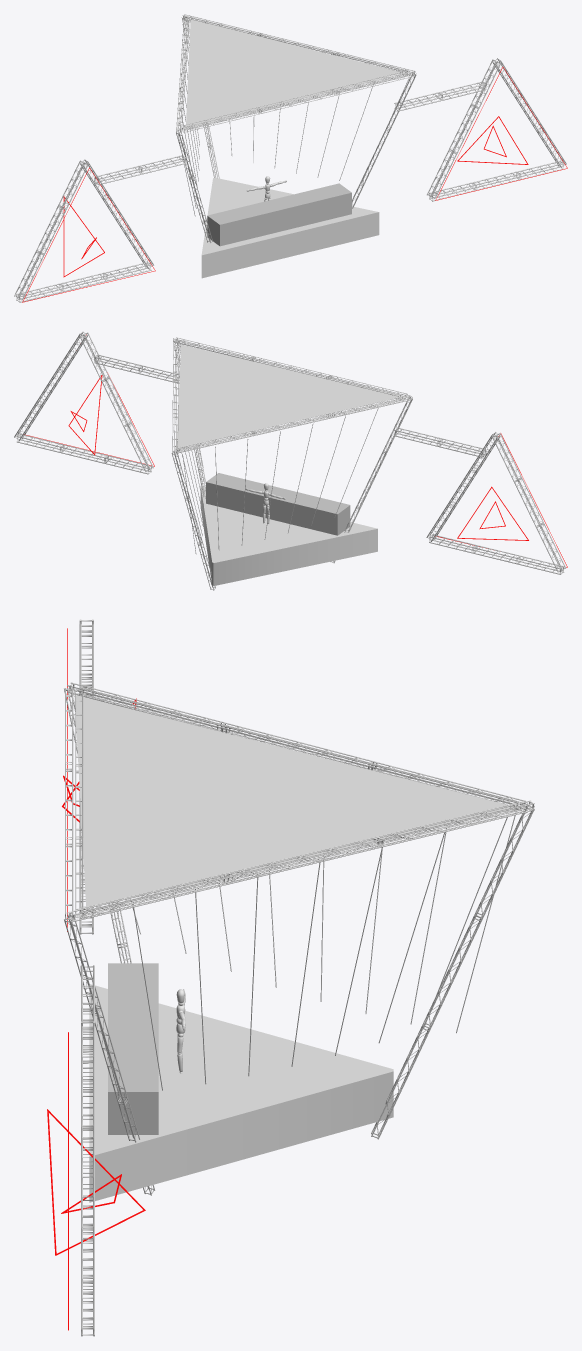
The model's file is STAAAGGe_FinalV10.fbx.
The picture shows the model from 3 angles, top to bottom: view 1: azimuth 30°, elevation 25°; view 2: azimuth 150°, elevation 25°; view 3: azimuth 270°, elevation 25°; orthographic projection. The views are drawn at different scales.
Parts seen in each view (by area): view 1: Polygon_1, StageFloor, DJbooth, truss_10_a_2, Cylinder_0_1, truss_10_a_1_3, truss_10_a_1_4, truss_10_a_2_7, truss_10_a_2_5, truss_10_a_2_9, truss_10_a_4, truss_10_a_3 (+10 smaller); view 2: Polygon_1, StageFloor, DJbooth, Cylinder_0_1, truss_10_a_2_2, truss_10_a_1_3, truss_10_a_1_4, truss_10_a_2_7, truss_10_a_2_9, truss_10_a_2_6, truss_10_a_2, truss_10_a_4 (+7 smaller); view 3: Polygon_1, StageFloor, DJbooth, Cylinder_0_1, truss_10_a_2_3, truss_10_a_1_2, truss_10_a_2_2, truss_10_a_1, truss_10_a_2_6, truss_10_a_2_4, truss_10_a_4, truss_10_a_2_5 (+1 smaller).
Boxes of the visible parts, x1=… form: Polygon_1: x1=186, y1=19, x2=399, y2=127; StageFloor: x1=201, y1=177, x2=379, y2=278; DJbooth: x1=207, y1=183, x2=351, y2=246; truss_10_a_2: x1=182, y1=71, x2=415, y2=132; Cylinder_0_1: x1=177, y1=24, x2=409, y2=216; truss_10_a_1_3: x1=14, y1=160, x2=88, y2=300; truss_10_a_1_4: x1=427, y1=59, x2=500, y2=198; truss_10_a_2_7: x1=16, y1=262, x2=151, y2=302; truss_10_a_2_5: x1=183, y1=71, x2=408, y2=129; truss_10_a_2_9: x1=429, y1=161, x2=564, y2=201; truss_10_a_4: x1=492, y1=58, x2=566, y2=168; truss_10_a_3: x1=80, y1=159, x2=154, y2=269; Polygon_1: x1=176, y1=345, x2=399, y2=447; StageFloor: x1=200, y1=485, x2=377, y2=585; DJbooth: x1=206, y1=473, x2=350, y2=535; Cylinder_0_1: x1=177, y1=345, x2=410, y2=554; truss_10_a_2_2: x1=175, y1=395, x2=411, y2=453; truss_10_a_1_3: x1=492, y1=433, x2=566, y2=572; truss_10_a_1_4: x1=80, y1=332, x2=153, y2=471; truss_10_a_2_7: x1=429, y1=534, x2=564, y2=574; truss_10_a_2_9: x1=16, y1=433, x2=151, y2=474; truss_10_a_2_6: x1=177, y1=396, x2=405, y2=452; truss_10_a_2: x1=175, y1=337, x2=407, y2=398; truss_10_a_4: x1=14, y1=331, x2=88, y2=441; Polygon_1: x1=74, y1=695, x2=513, y2=906; StageFloor: x1=89, y1=984, x2=393, y2=1202; DJbooth: x1=108, y1=963, x2=158, y2=1134; Cylinder_0_1: x1=70, y1=693, x2=516, y2=1095; truss_10_a_2_3: x1=67, y1=800, x2=534, y2=922; truss_10_a_1_2: x1=77, y1=801, x2=527, y2=918; truss_10_a_2_2: x1=67, y1=682, x2=525, y2=810; truss_10_a_1: x1=371, y1=803, x2=534, y2=1139; truss_10_a_2_6: x1=77, y1=687, x2=519, y2=810; truss_10_a_2_4: x1=64, y1=914, x2=155, y2=1195; truss_10_a_4: x1=81, y1=1026, x2=94, y2=1330; truss_10_a_2_5: x1=75, y1=692, x2=83, y2=916.
Size of the model in its own units: 2499 by 732 by 961.
